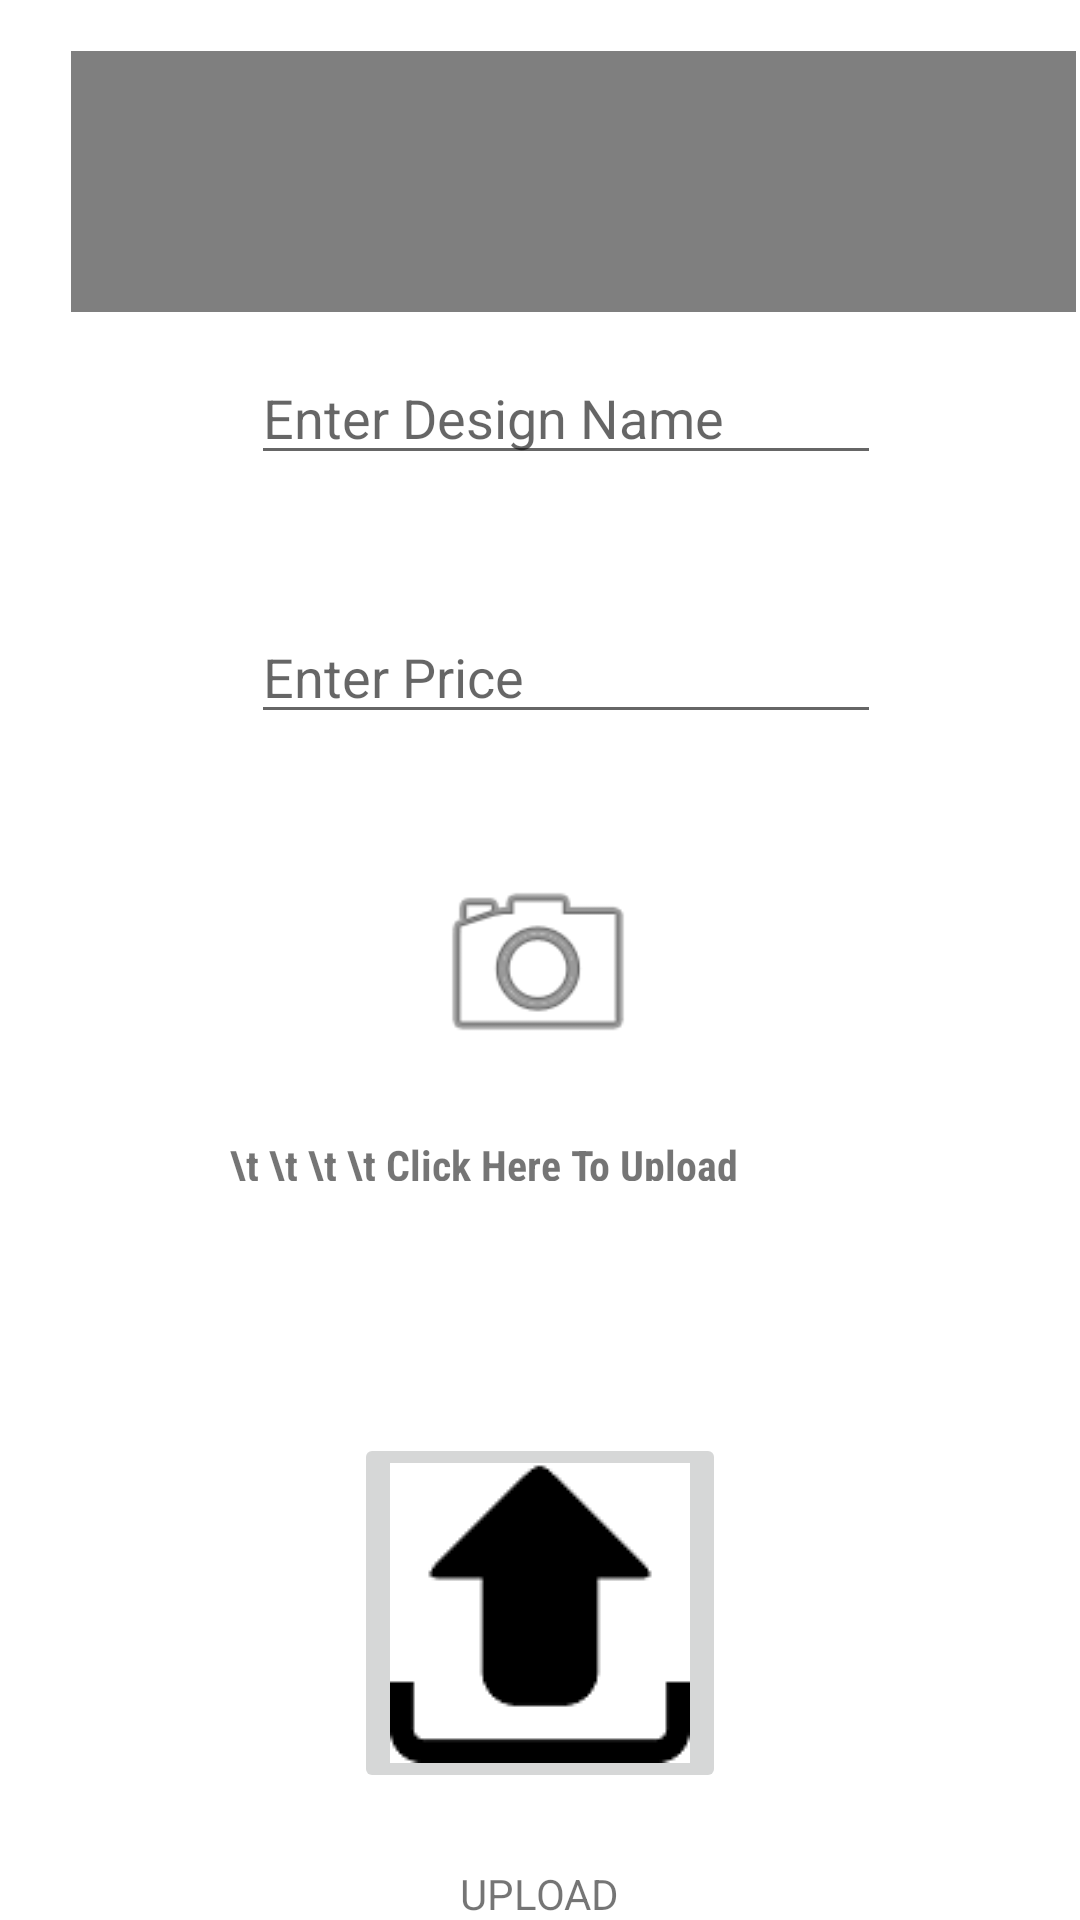

Point at icon controls on the screen. Image size 1080x1920, points as point (x, y).
camera: point (538, 961)
